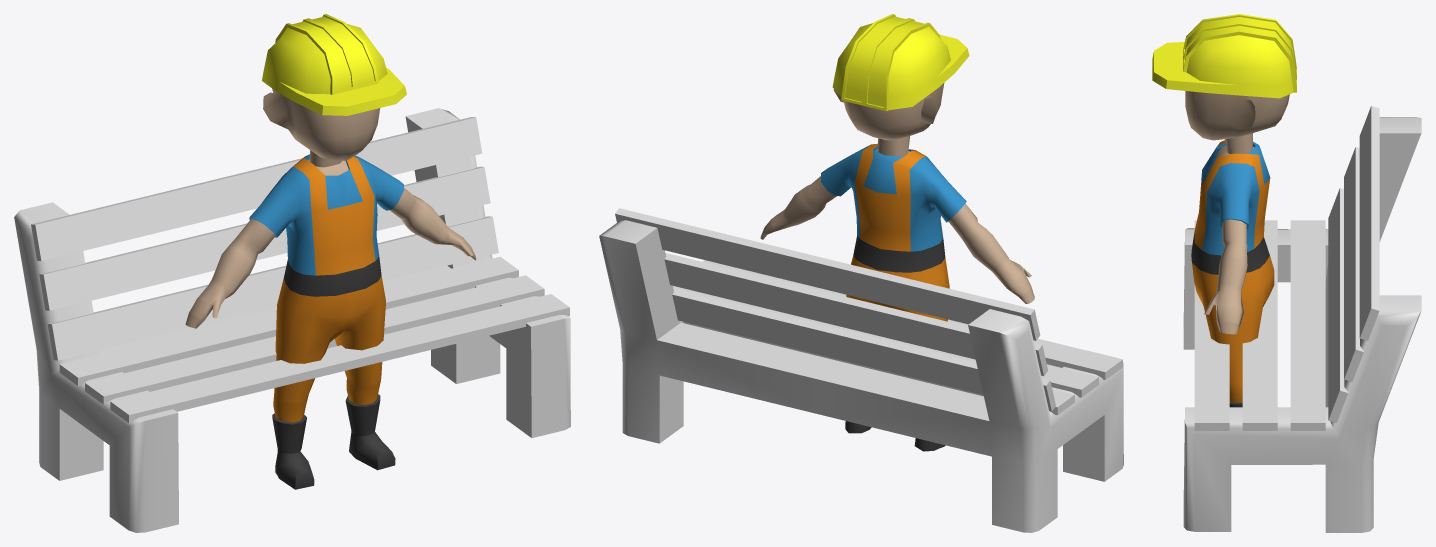
Rendered from Bench_1.fbx.
3 views of the same model, side by side, from view 1: azimuth 30°, elevation 25°; view 2: azimuth 150°, elevation 25°; view 3: azimuth 270°, elevation 25° (orthographic). The views are drawn at different scales.
Visible parts, largest first — view 1: Bench_1, Player; view 2: Bench_1, Player; view 3: Bench_1, Player.
Part boxes in pixels (left/top/right/bottom): Bench_1: left=14, top=108, right=570, bottom=532; Player: left=185, top=14, right=476, bottom=489; Bench_1: left=599, top=208, right=1123, bottom=532; Player: left=760, top=14, right=1034, bottom=451; Bench_1: left=1183, top=106, right=1421, bottom=532; Player: left=1152, top=14, right=1296, bottom=407.
Size of what is drawn, in the model's own units: 1000 by 946 by 561.
